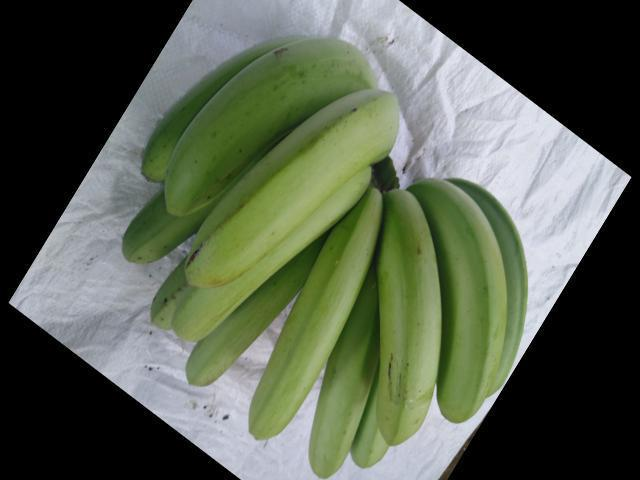freshunripe: (169, 89, 417, 268), (153, 27, 380, 211), (242, 180, 369, 438), (428, 168, 513, 424), (174, 231, 305, 390), (368, 175, 447, 431), (313, 282, 364, 474), (160, 260, 258, 350), (110, 196, 193, 262)
